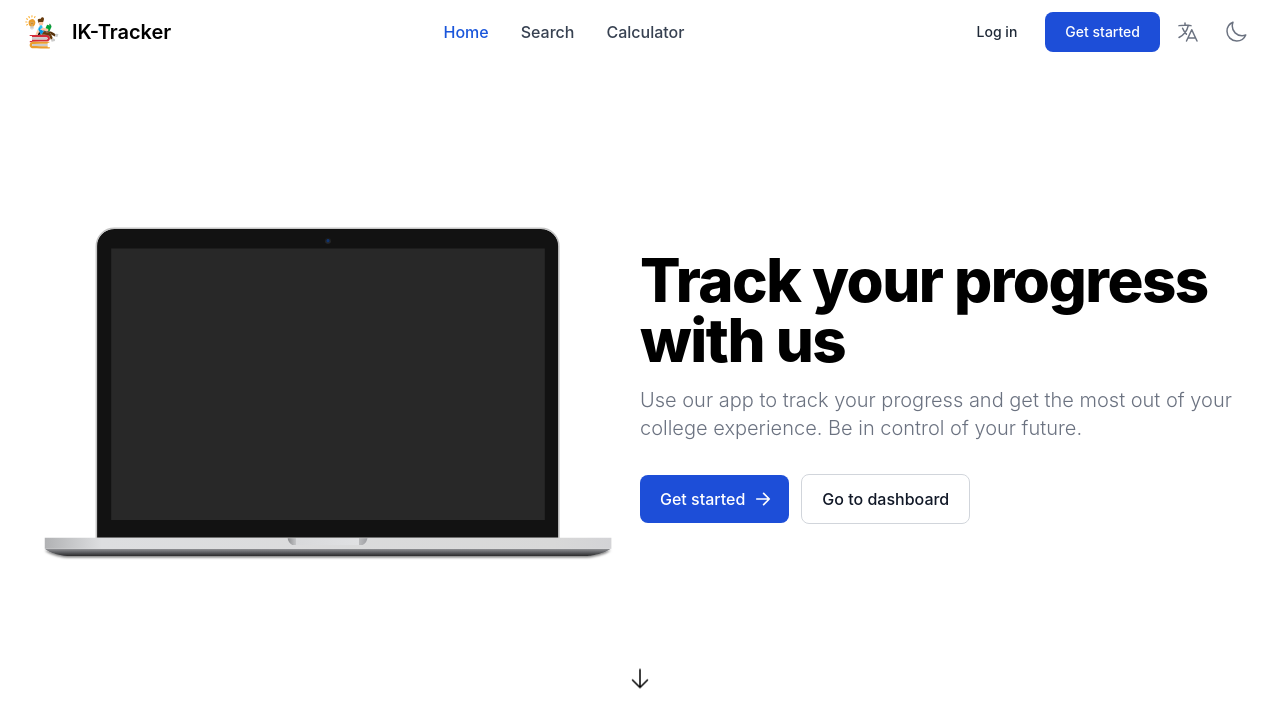
Test: Home Page › Should jump to features
Click the link with test id "home-features-link". click: coordinates (640, 679)
box: [628,667,652,691]
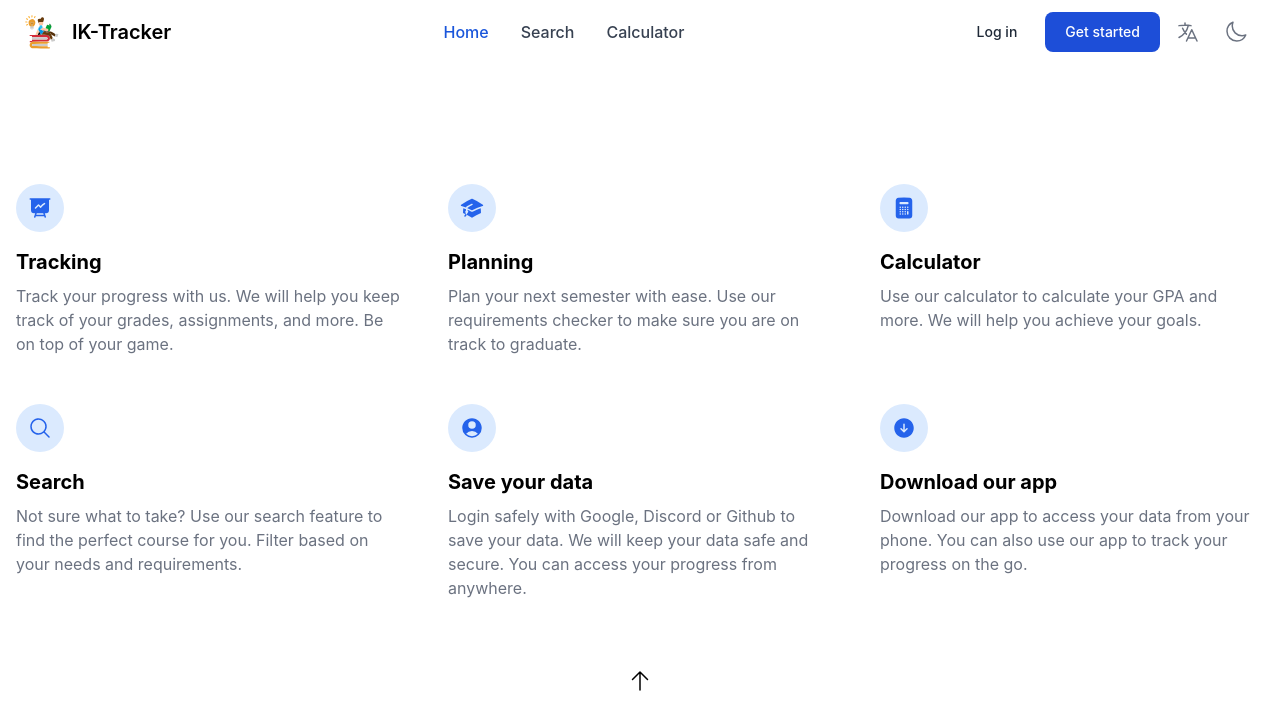
Expected: the element with test id "home-feature-section" is shown
